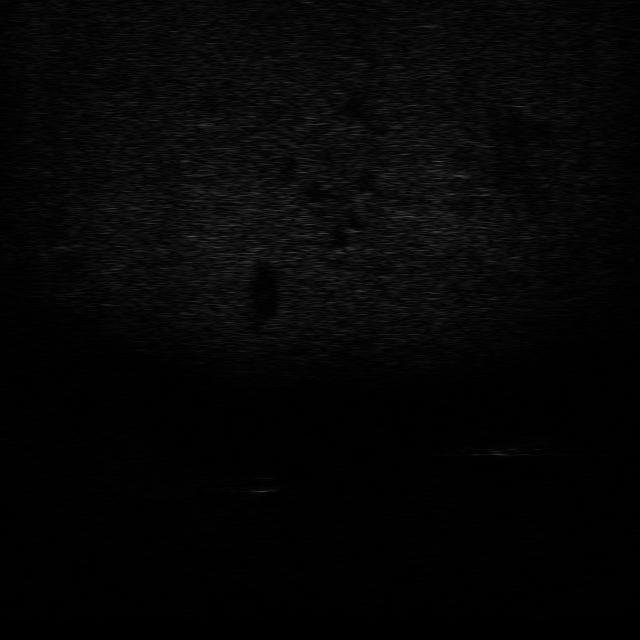ball: (239, 471, 286, 497)
human body: (454, 439, 560, 460)
